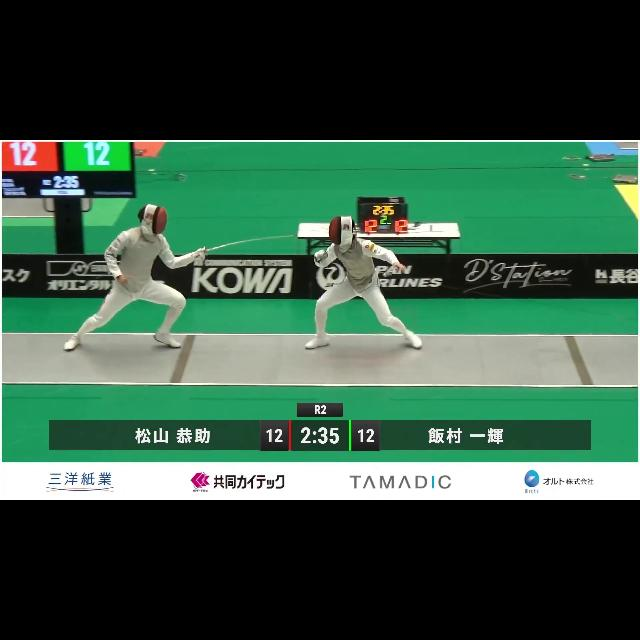blade: (192, 228, 294, 264), (312, 242, 342, 262)
